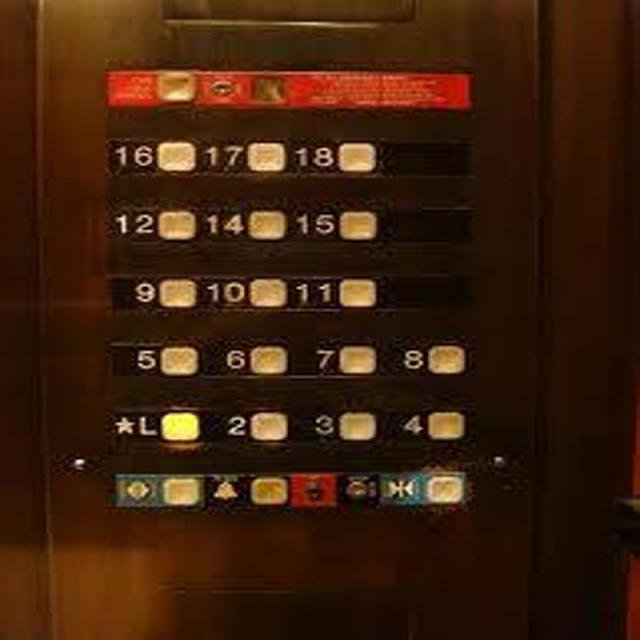10: (201, 275, 292, 311)
11: (291, 275, 380, 309)
12: (105, 205, 200, 242)
14: (200, 204, 289, 241)
15: (291, 207, 381, 242)
16: (101, 135, 199, 173)
17: (198, 135, 290, 177)
18: (290, 136, 382, 176)
2: (212, 408, 289, 444)
3: (295, 408, 376, 443)
4: (381, 408, 467, 441)
5: (114, 343, 202, 379)
6: (208, 341, 292, 378)
7: (305, 342, 379, 378)
8: (388, 341, 477, 377)
9: (113, 275, 199, 310)
alarm: (204, 472, 288, 507)
bt_keyhole: (197, 68, 295, 106)
close: (380, 469, 468, 508)
keyhole: (289, 473, 335, 507), (337, 474, 379, 503)
open: (113, 472, 203, 510)
sL: (109, 407, 203, 446)
text_blur: (103, 68, 200, 106)
